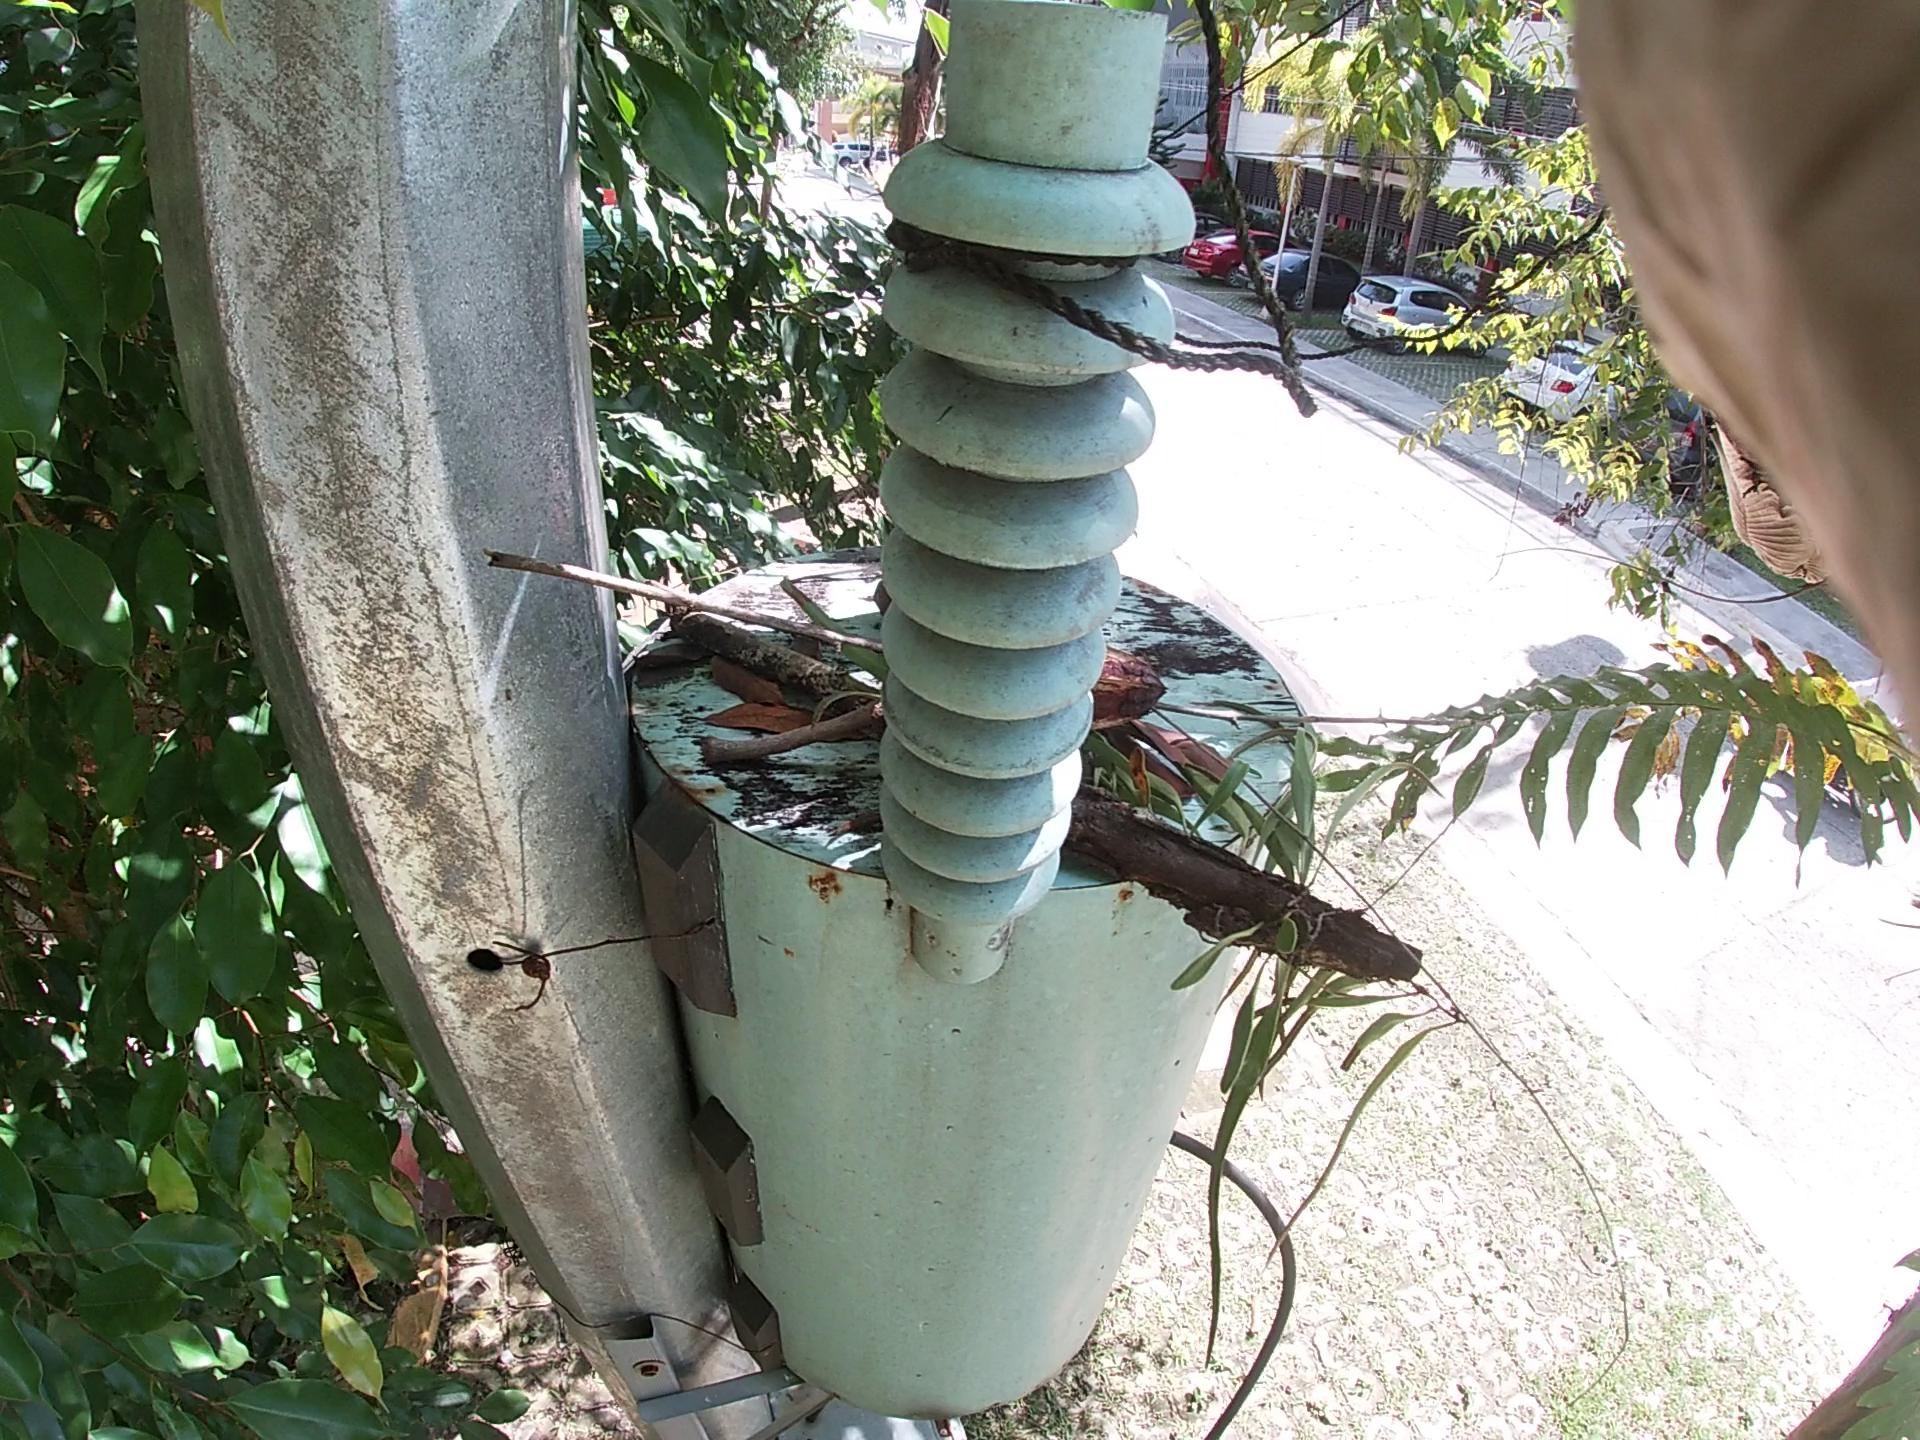branch with leaves: (667, 551, 1483, 1050)
leaf: (701, 694, 824, 737), (701, 647, 794, 703)
mahogany fruit: (1017, 617, 1200, 781)
tree branch: (479, 546, 890, 669), (689, 703, 903, 773)
